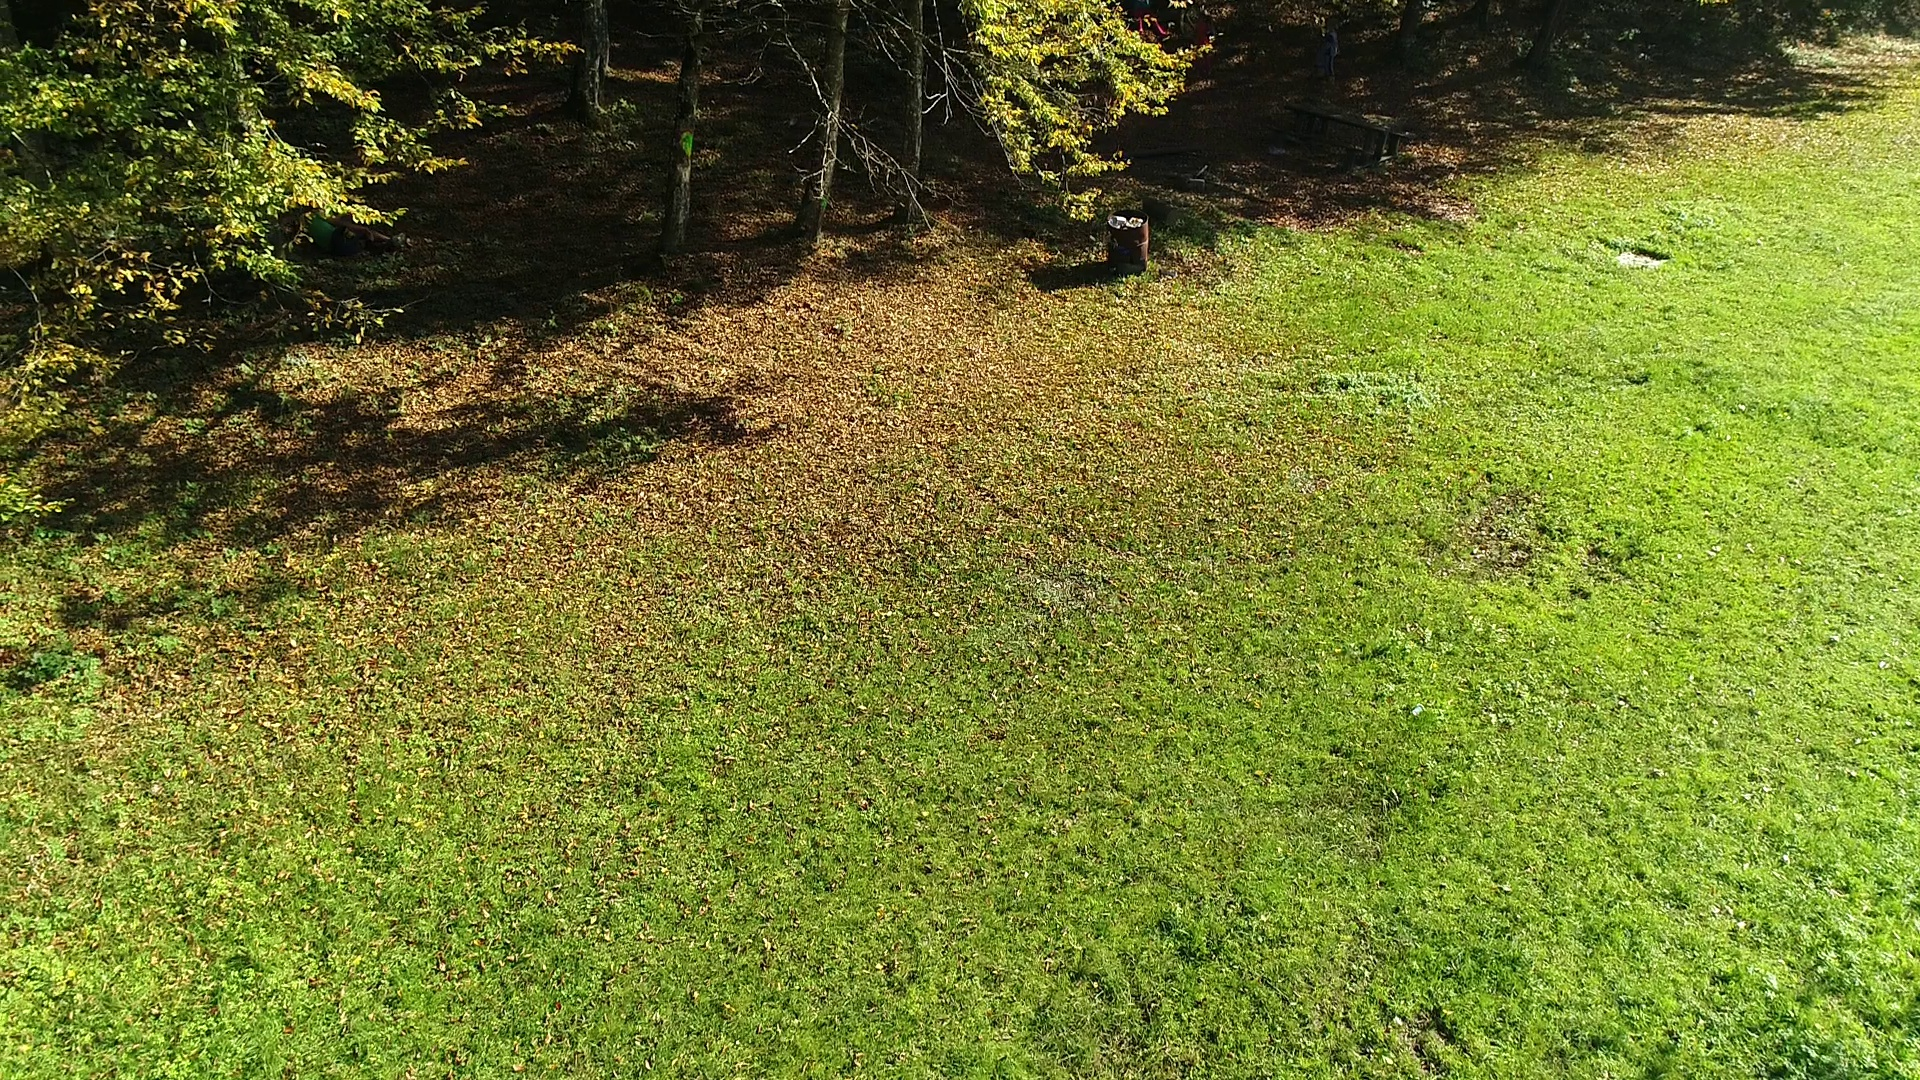not_defined: (1120, 1, 1175, 38)
person: (302, 194, 406, 257), (1185, 11, 1215, 89), (1318, 25, 1340, 92)
